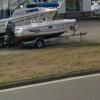Boat: (2, 1, 80, 48)
